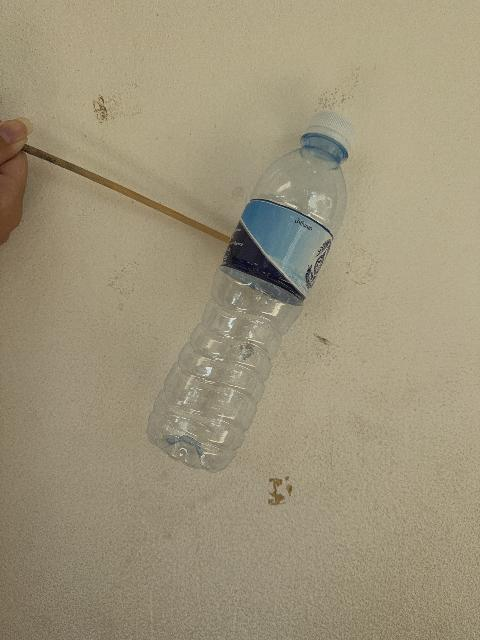bottle: (147, 112, 354, 472)
